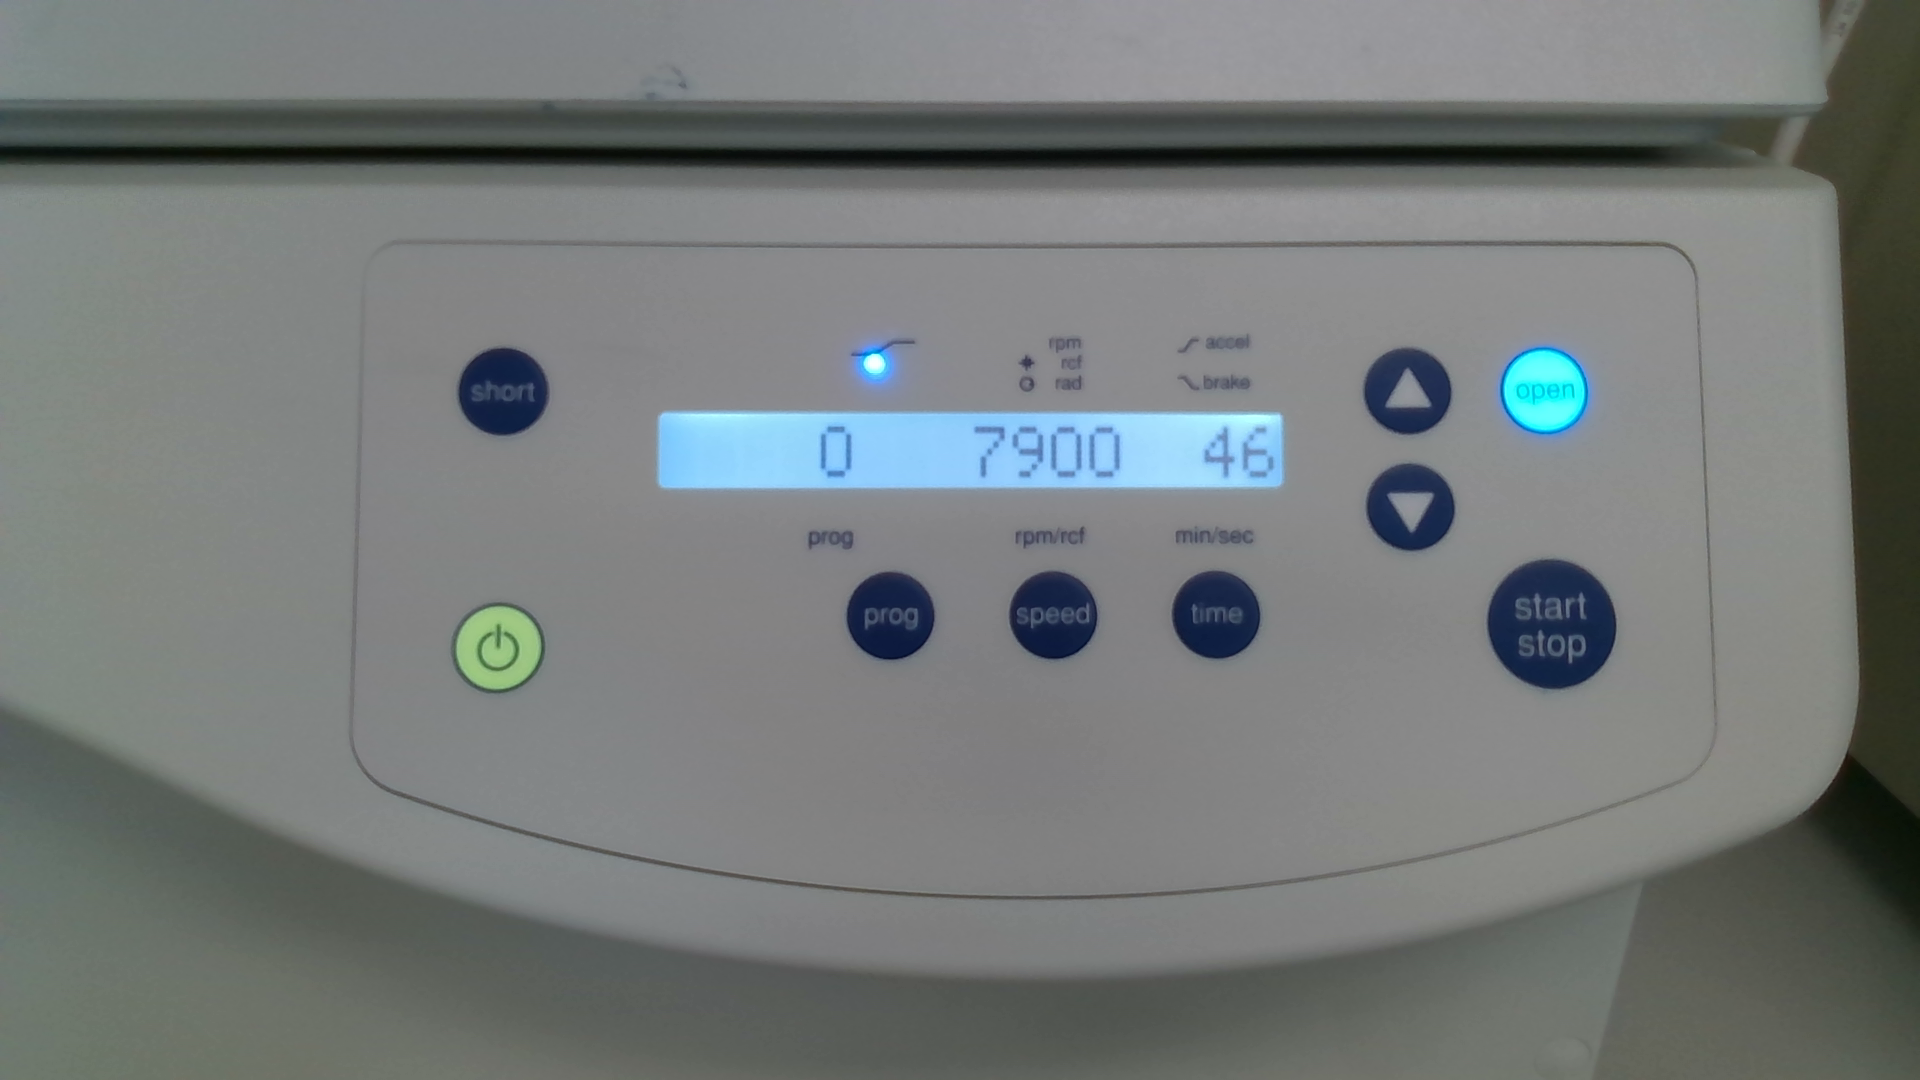0: (1050, 426, 1083, 477), (820, 426, 852, 477), (1089, 426, 1121, 477)
4: (1204, 426, 1236, 477)
6: (1244, 426, 1275, 477)
7: (975, 426, 1006, 477)
9: (1011, 426, 1044, 477)
open_on: (1499, 345, 1589, 435)
power_on: (451, 603, 545, 694)
